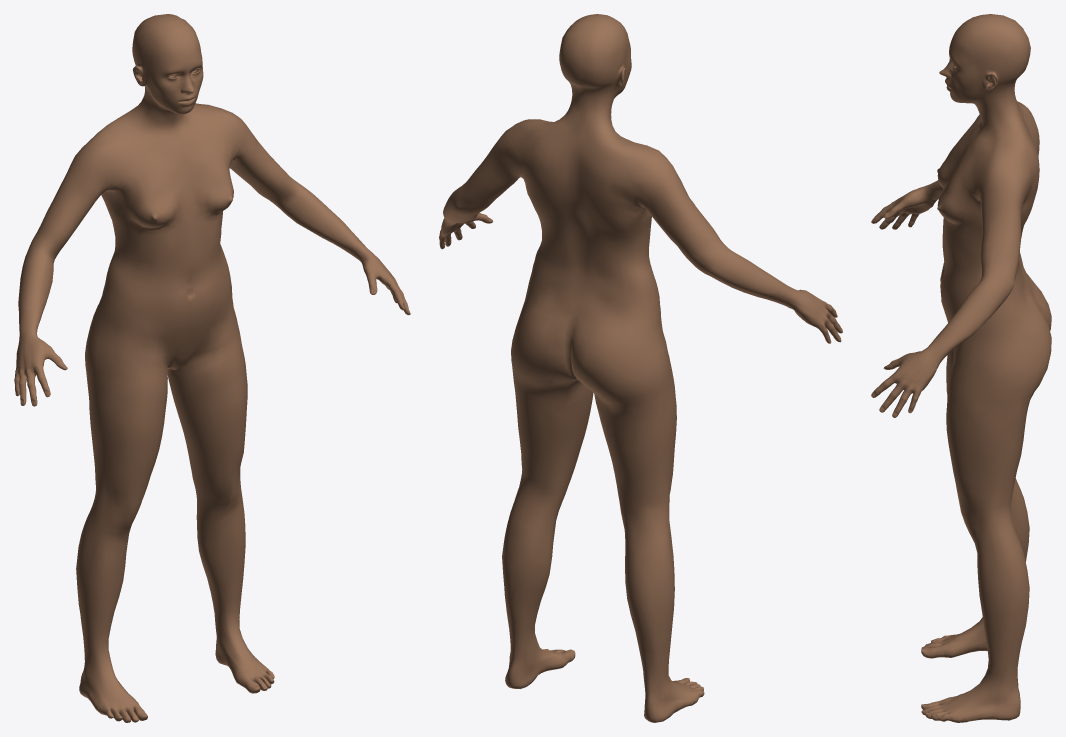
3 renders of one model, left to right at view 1: azimuth 30°, elevation 25°; view 2: azimuth 150°, elevation 25°; view 3: azimuth 270°, elevation 25°, orthographic.
Visible parts, largest first — view 1: base.obj; view 2: base.obj; view 3: base.obj.
Part boxes in pixels (x1,y1,x2,y2): base.obj: (14, 14, 410, 722); base.obj: (439, 14, 842, 722); base.obj: (871, 14, 1051, 722).
Size of the model in its own units: 10.96 by 18 by 4.41.
